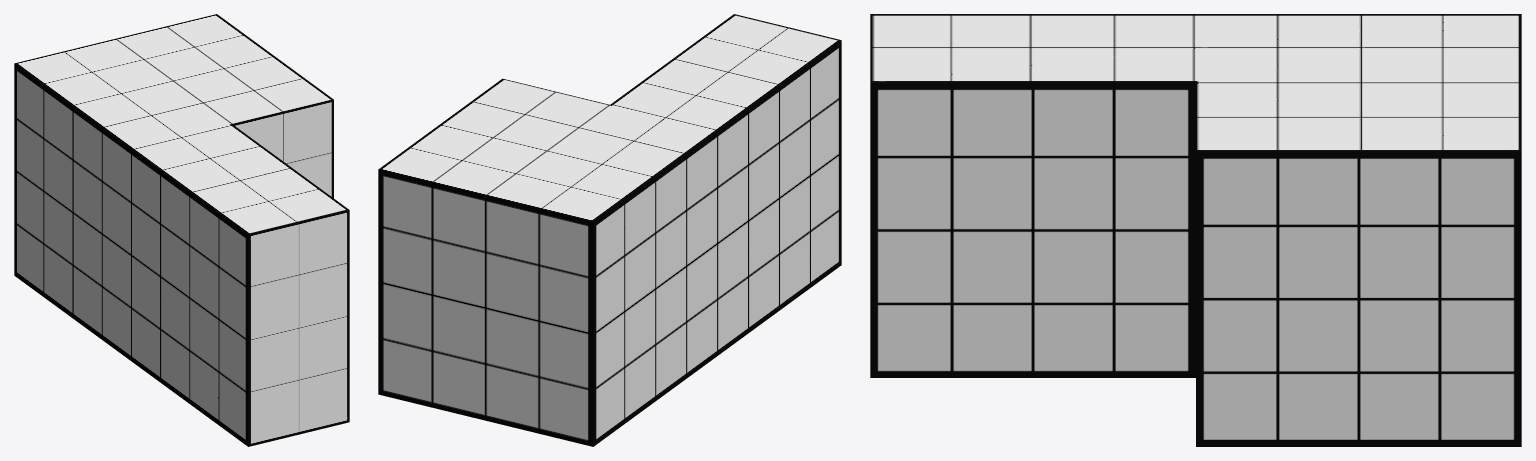
File: fig10.glb
3 views of the same model, side by side, from view 1: azimuth 30°, elevation 25°; view 2: azimuth 150°, elevation 25°; view 3: azimuth 270°, elevation 25° (orthographic). The views are drawn at different scales.
Parts seen in each view (by area): view 1: root; view 2: root; view 3: root.
Boxes of the visible parts, x1,y1,x2,y2 form: root: [14, 14, 349, 446]; root: [378, 14, 841, 446]; root: [870, 14, 1521, 446].
Bounding box in the file's own units: 0.04 × 0.04 × 0.08.
5 materials, 5 textured.
